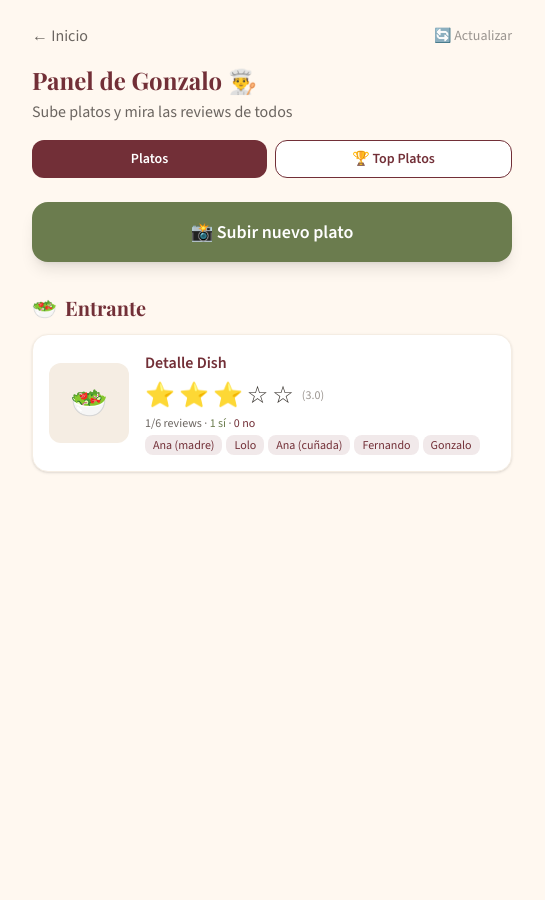
it: AdminDashboard › clicking a dish opens DishDetail
Click the text "Detalle Dish" at (186, 362), box [145,352,227,373]
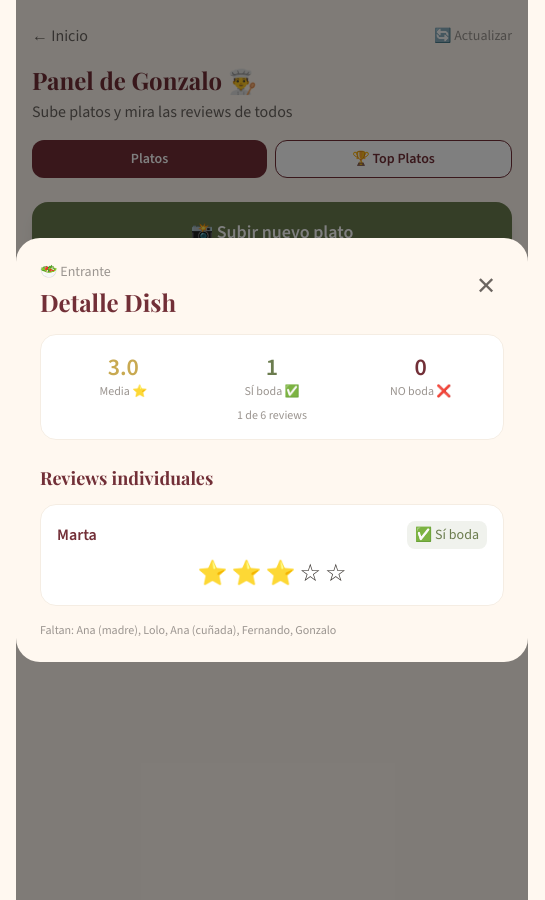
Check: the button "✕" is shown, box [468,262,504,310]
